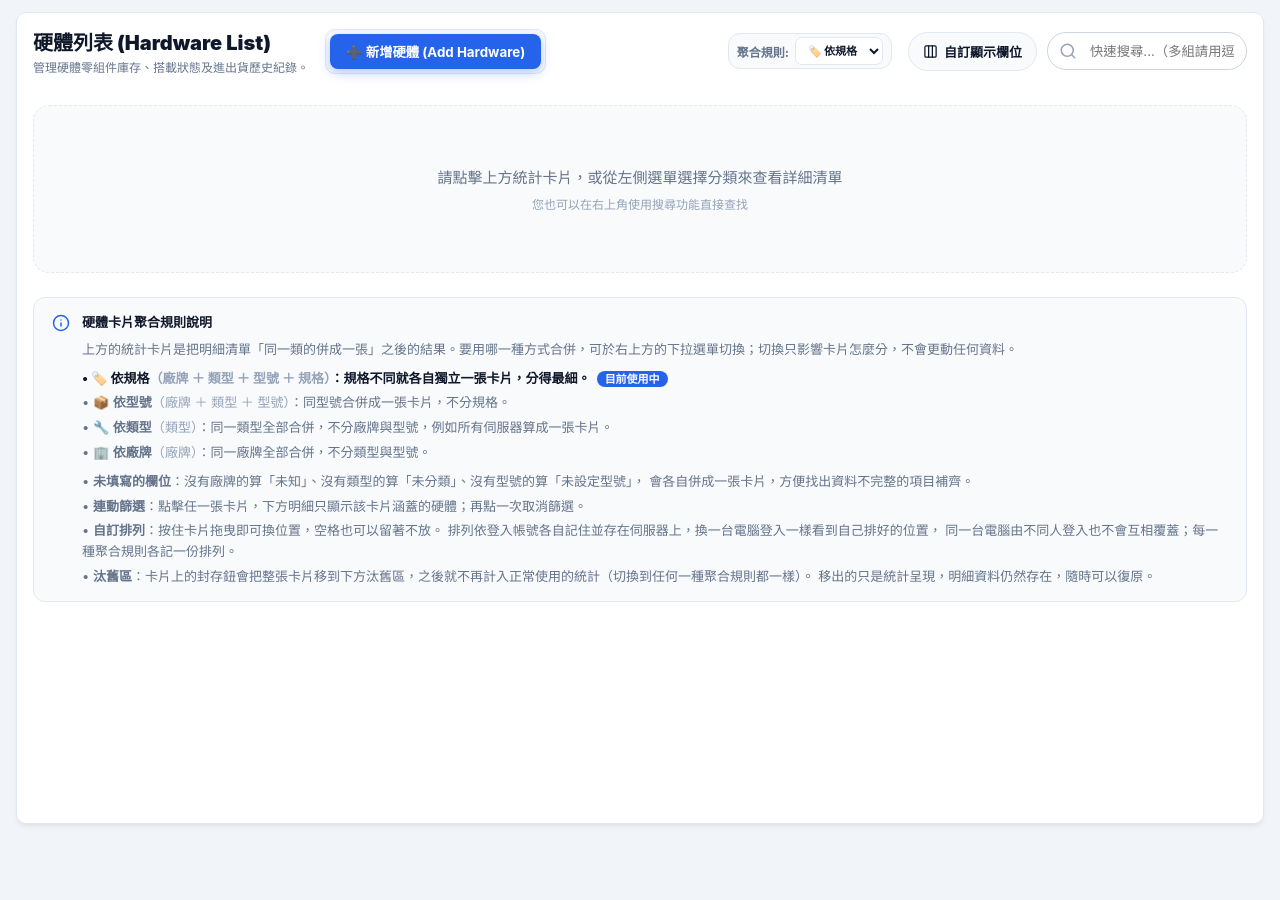
列表在狀態底下顯示借用單號 › 沒有借出的硬體不會出現借用單號那一行
The width and height of the screenshot is (1280, 900).
Type "TESTBRAND" into the field with placeholder "快速搜尋...（多組請用逗號分隔）" at (1147, 51), box left=1047, top=32, right=1247, bottom=70
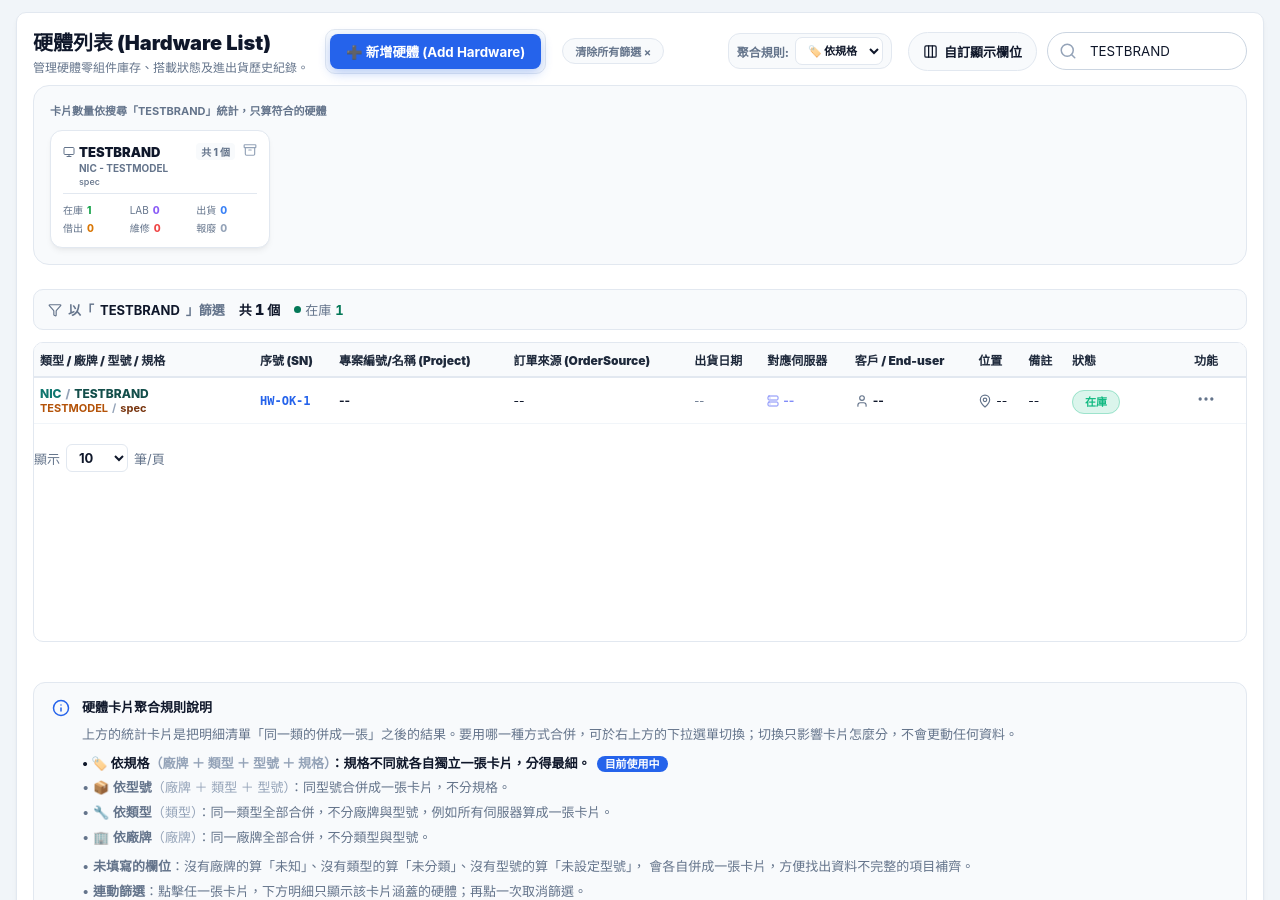
Result: the text "HW-OK-1" is shown at left=254, top=377, right=333, bottom=424
